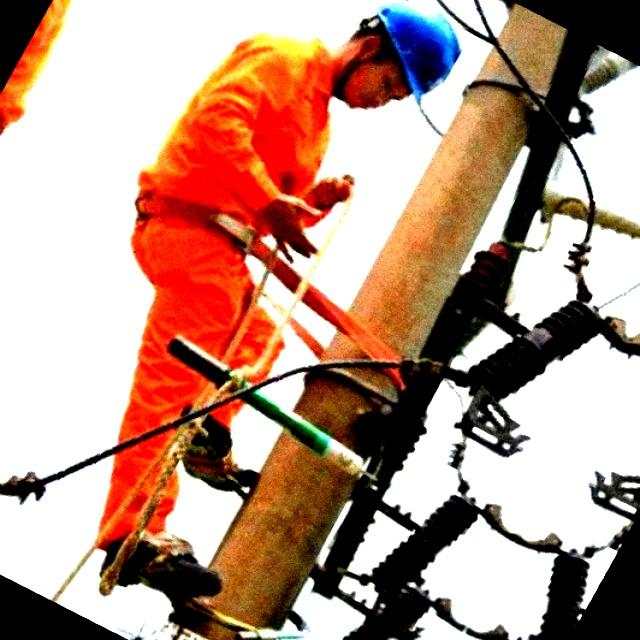Capacete: (377, 0, 460, 103)
